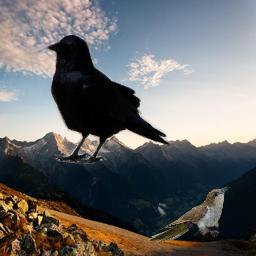Crow: (43, 33, 174, 164)
Cuckoo: (147, 186, 231, 242)
